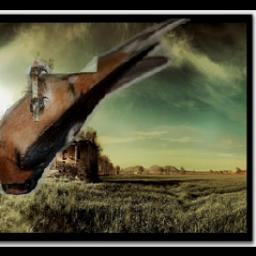Swallow: (0, 18, 191, 196)
